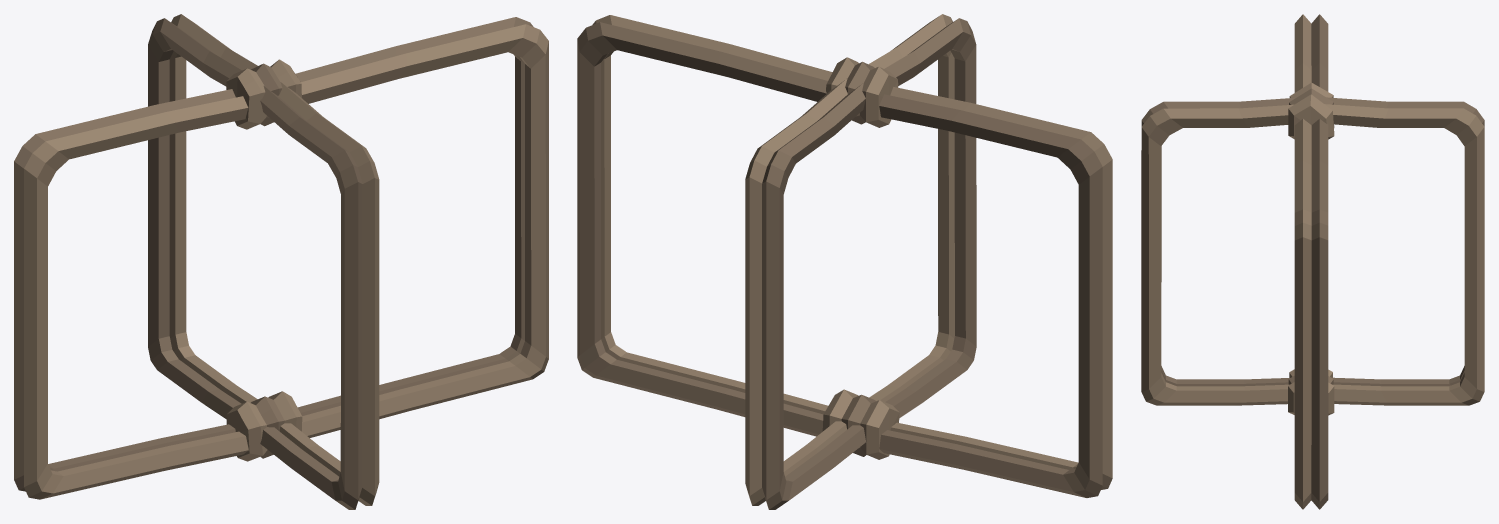
File: SM_Prop_Crate_07_Insert_01.fbx
3 renders of one model, left to right at view 1: azimuth 30°, elevation 25°; view 2: azimuth 150°, elevation 25°; view 3: azimuth 270°, elevation 25°, orthographic. The views are drawn at different scales.
Visible parts, largest first — view 1: SM_Prop_Crate_07_Insert_01; view 2: SM_Prop_Crate_07_Insert_01; view 3: SM_Prop_Crate_07_Insert_01.
Boxes of the visible parts, x1,y1,x2,y2 form: SM_Prop_Crate_07_Insert_01: (14,14,548,509); SM_Prop_Crate_07_Insert_01: (577,14,1112,509); SM_Prop_Crate_07_Insert_01: (1141,14,1484,509).
Bounding box in the file's own units: 110 × 79.6 × 74.97.
